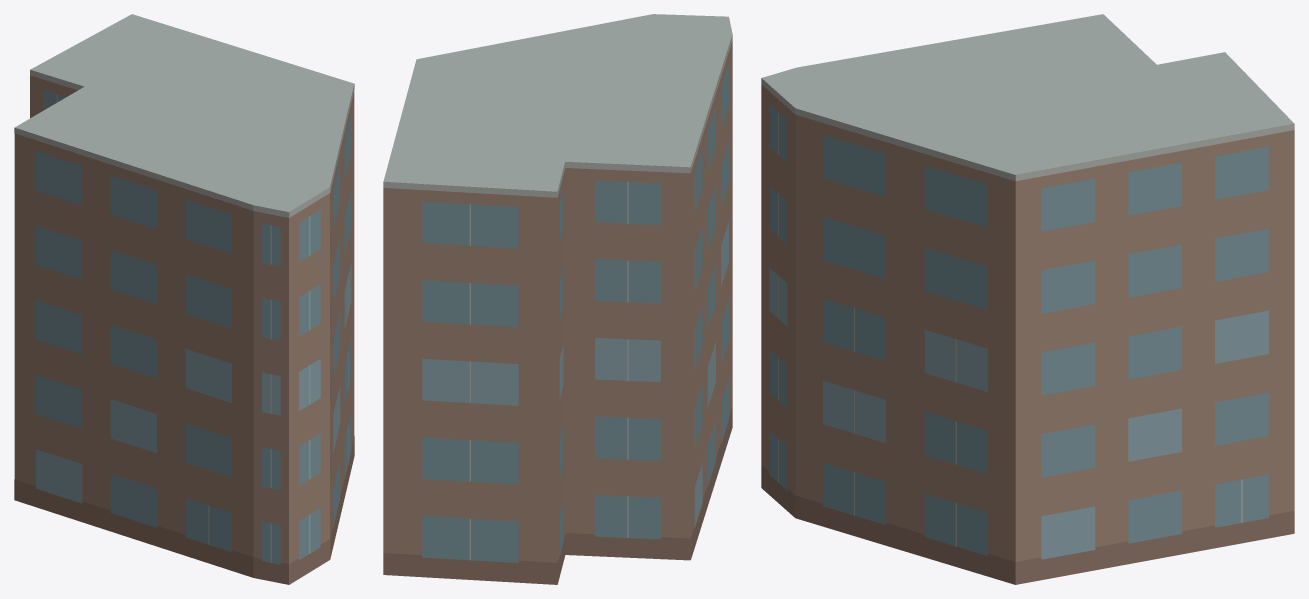
Rendered from survey-upis-33023492.glb.
The picture shows the model from 3 angles, left to right: view 1: azimuth 30°, elevation 25°; view 2: azimuth 150°, elevation 25°; view 3: azimuth 270°, elevation 25°; orthographic projection. The views are drawn at different scales.
Visible parts, largest first — view 1: survey-upis-33023492.tmp; view 2: survey-upis-33023492.tmp; view 3: survey-upis-33023492.tmp.
Part boxes in pixels (x1,y1,x2,y2): survey-upis-33023492.tmp: [14, 14, 354, 584]; survey-upis-33023492.tmp: [383, 14, 732, 584]; survey-upis-33023492.tmp: [761, 14, 1294, 584].
Size of the model in its own units: 13.32 by 15.8 by 18.64.
